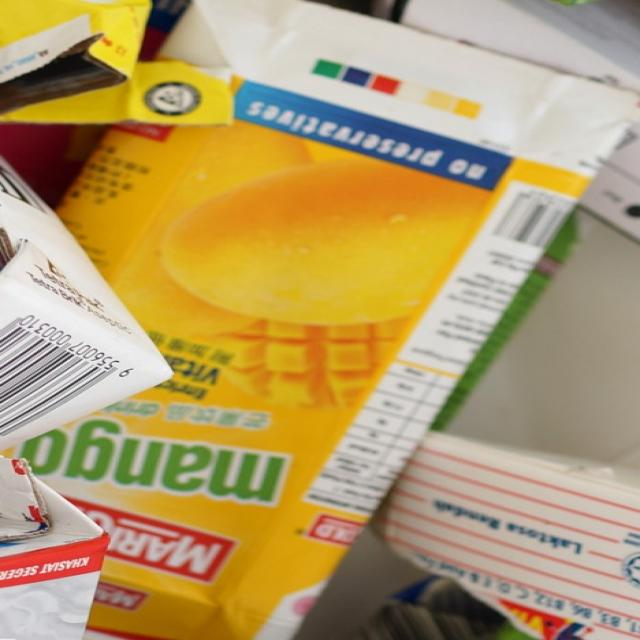drink carton: (20, 0, 640, 630)
